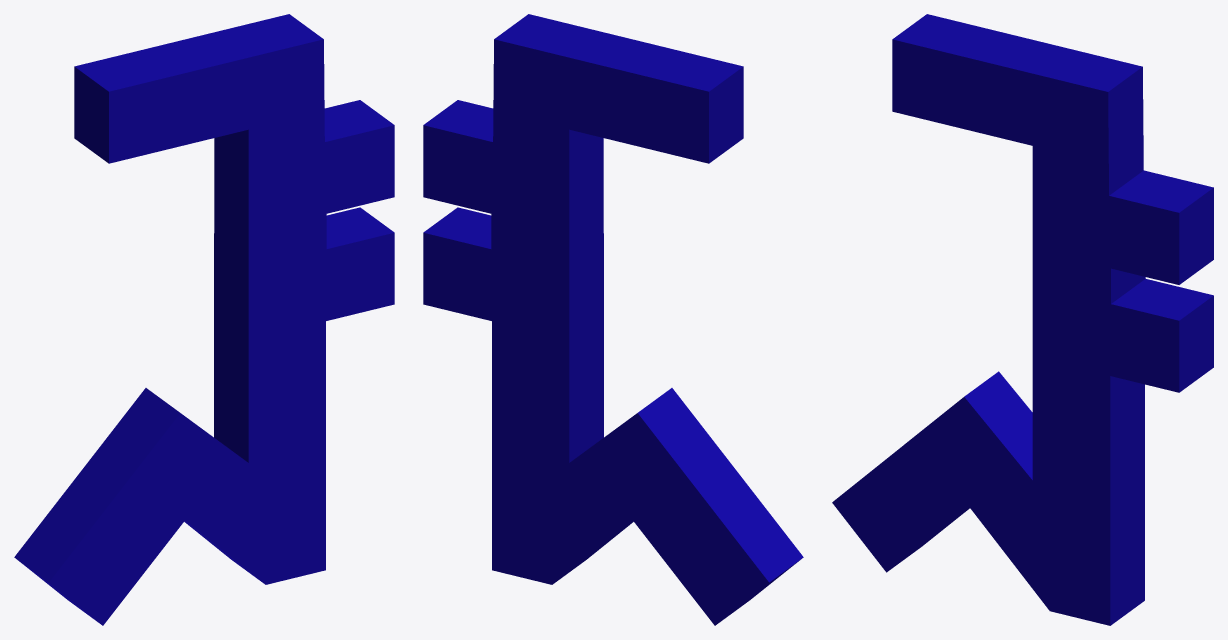
Rendered from snu.glb.
The picture shows the model from 3 angles, left to right: view 1: azimuth 30°, elevation 25°; view 2: azimuth 150°, elevation 25°; view 3: azimuth 330°, elevation 25°; orthographic projection.
Parts seen in each view (by area): view 1: Plane; view 2: Plane; view 3: Plane.
Boxes of the visible parts, x1,y1,x2,y2 form: Plane: (14, 14, 394, 625); Plane: (423, 14, 803, 625); Plane: (832, 14, 1213, 625).
Size of the model in its own units: 2.99 by 4.39 by 0.5166.
